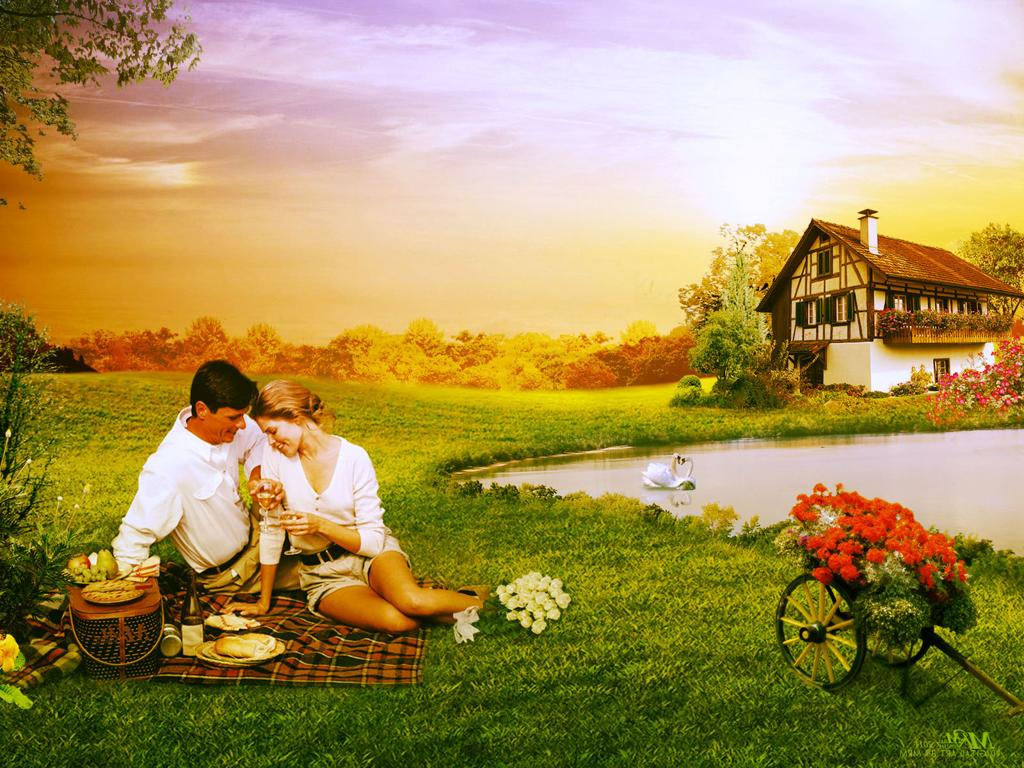face: (255, 412, 301, 457), (211, 397, 248, 442)
